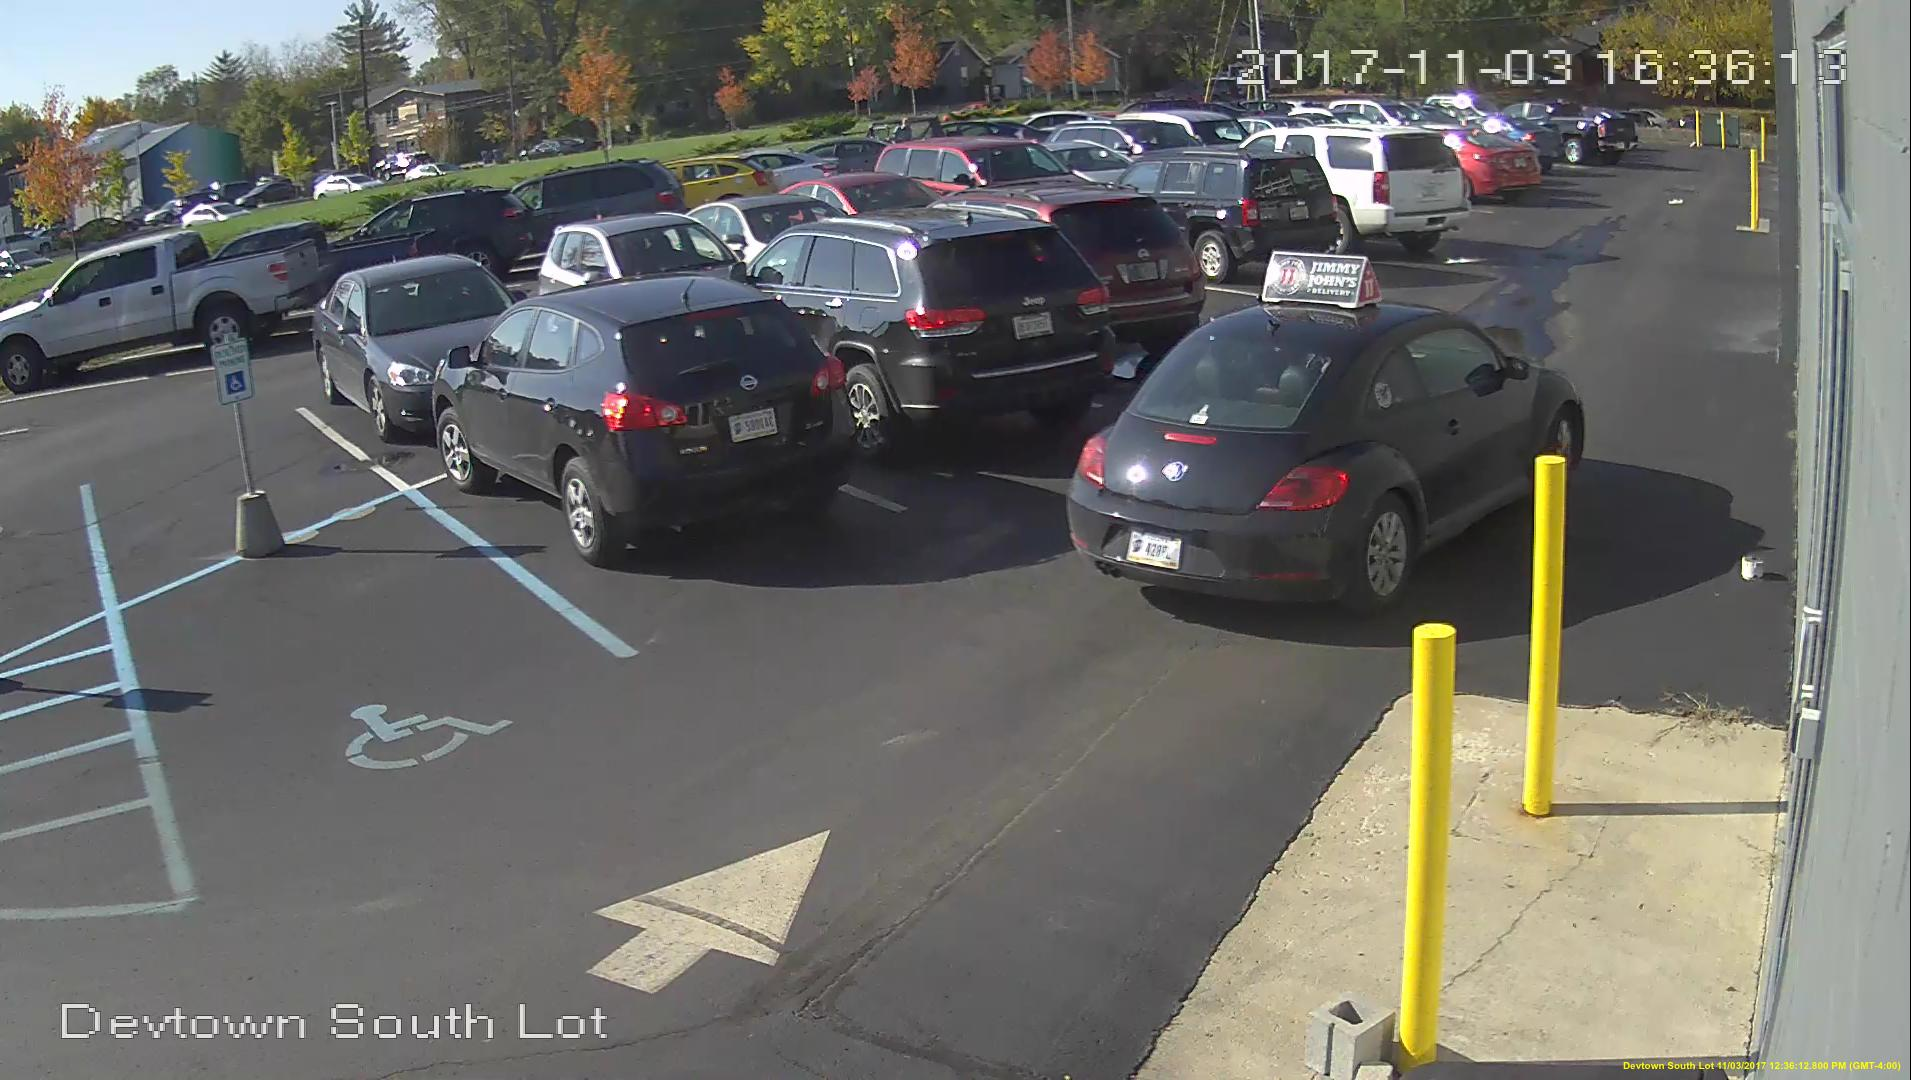jimmy_johns: (1253, 245, 1387, 312)
